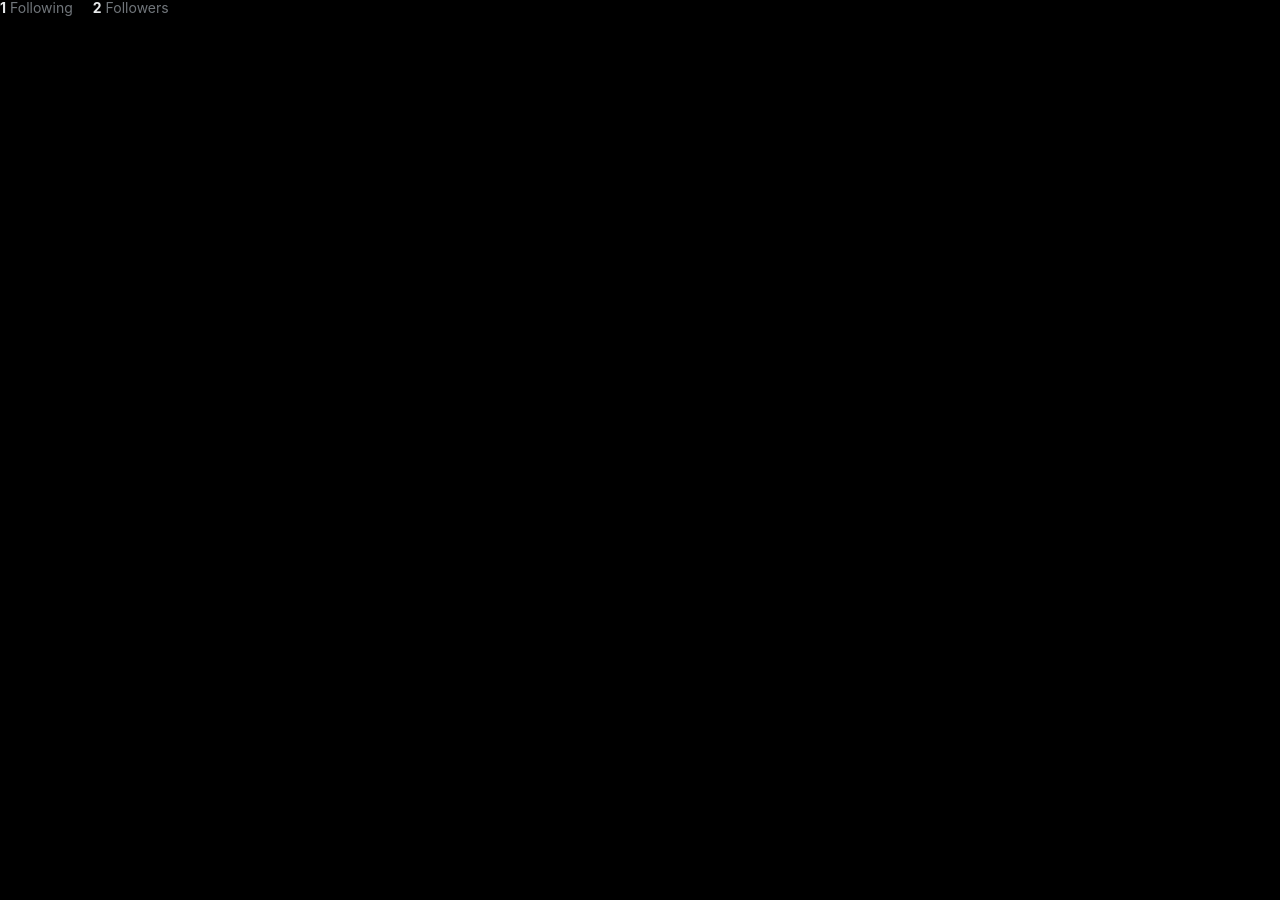
Test: FollowStats › closes the modal when the close button is clicked
Click the button "2 Followers".
click(131, 8)  # box [93,0,169,16]
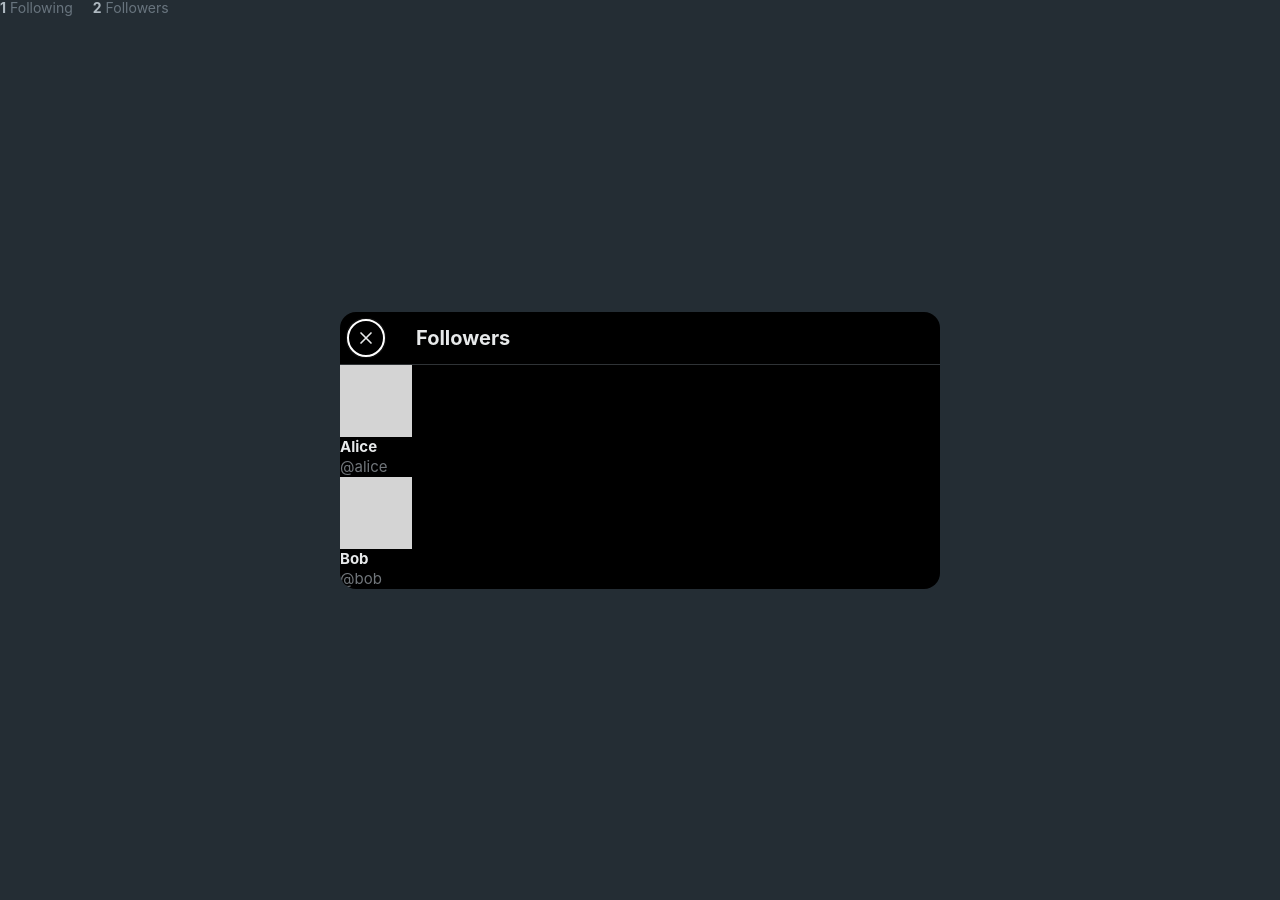
Expected: the dialog is shown, [340,312,940,588]
Click the button named "close".
click(366, 338)  # box [348,320,384,356]
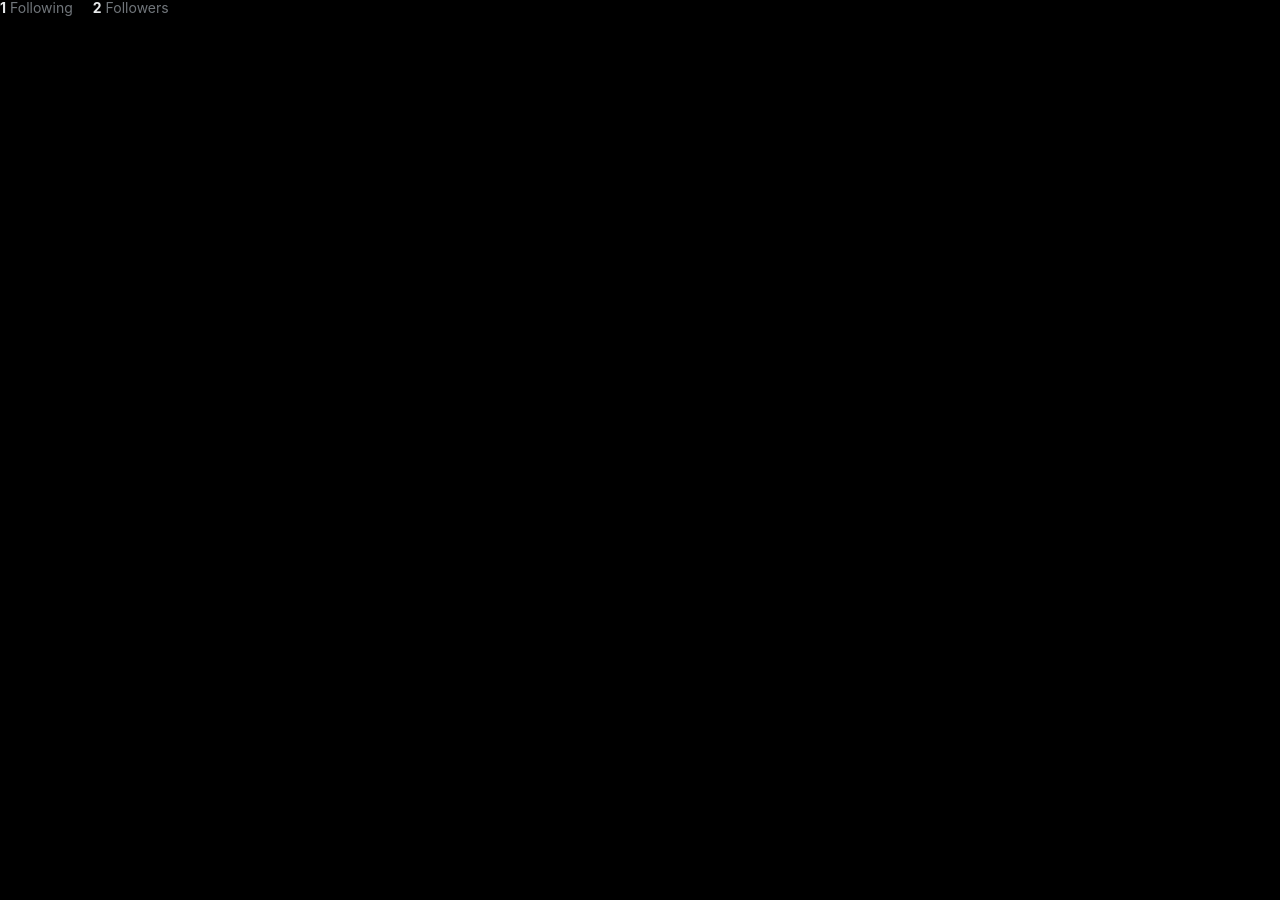
Expected: the dialog is gone
